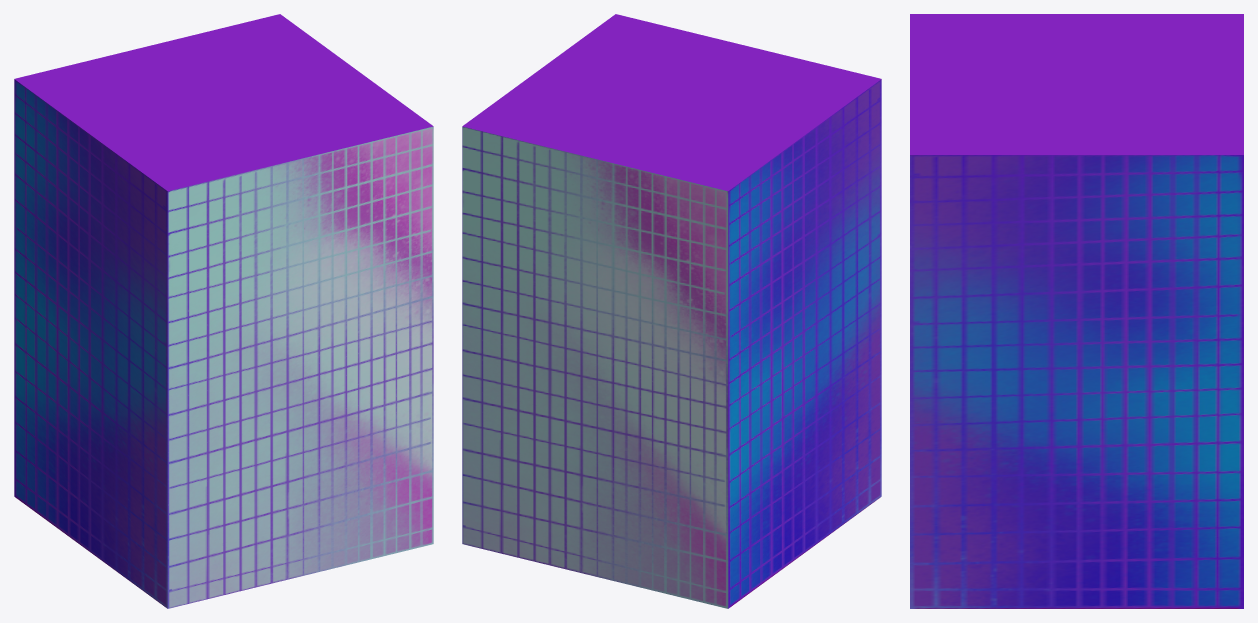
File: Build_B_Top.obj
3 renders of one model, left to right at view 1: azimuth 30°, elevation 25°; view 2: azimuth 150°, elevation 25°; view 3: azimuth 270°, elevation 25°, orthographic. The views are drawn at different scales.
Parts seen in each view (by area): view 1: Build_B_Top; view 2: Build_B_Top; view 3: Build_B_Top.
Boxes of the visible parts, x1=… form: Build_B_Top: x1=14, y1=14, x2=433, y2=608; Build_B_Top: x1=462, y1=14, x2=881, y2=608; Build_B_Top: x1=910, y1=14, x2=1243, y2=608.
Size of the model in its own units: 40 by 60 by 40.
1 material, 1 textured.
